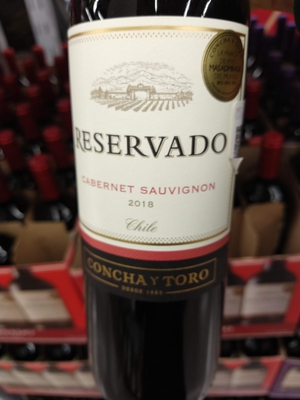reservado cabernet sauvignon: (60, 3, 248, 400)
